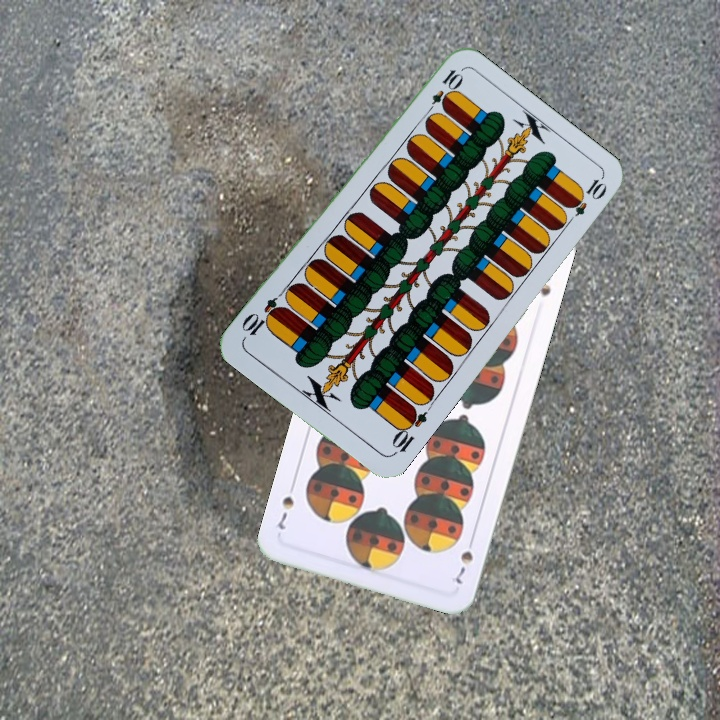E10: (387, 403, 430, 458), (421, 65, 464, 119)
S7: (451, 532, 477, 587)
